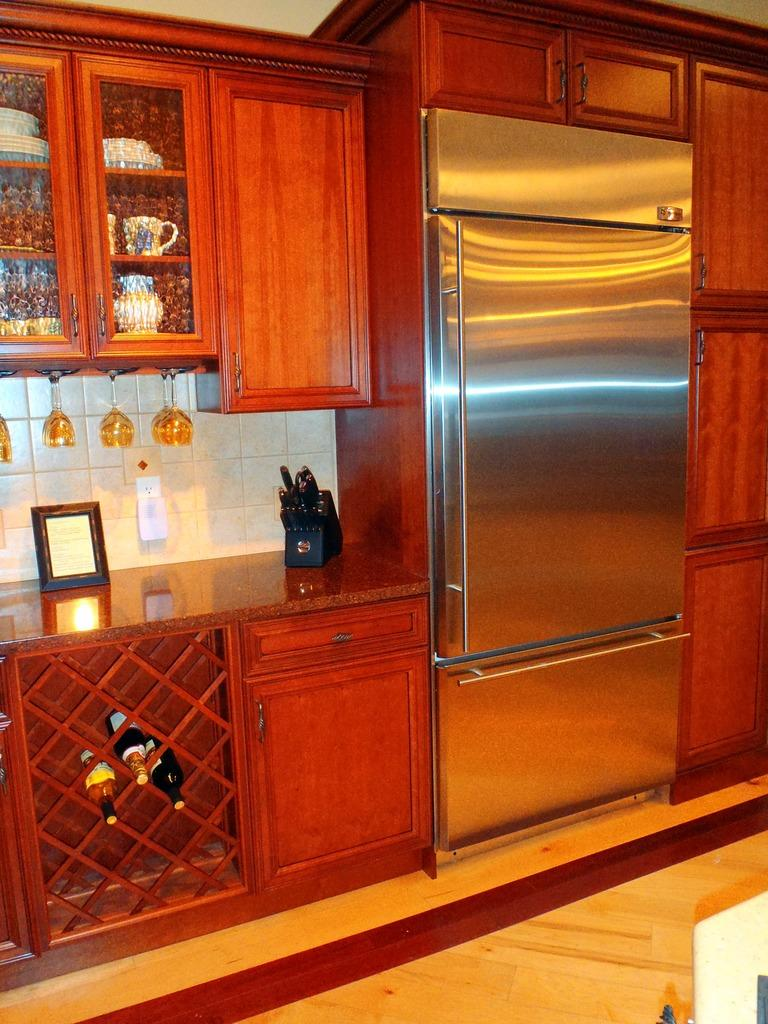cabinet_door: (225, 87, 363, 411), (79, 52, 211, 352), (248, 687, 432, 846), (2, 50, 78, 336), (698, 71, 768, 300), (700, 318, 768, 524), (432, 20, 562, 108), (564, 34, 676, 111), (254, 618, 418, 664)
handle: (446, 229, 480, 661), (466, 636, 682, 692), (567, 60, 591, 108), (250, 698, 270, 746), (94, 288, 109, 346), (326, 627, 356, 653), (555, 54, 568, 107), (230, 346, 243, 396), (695, 327, 707, 374), (696, 252, 708, 296), (72, 296, 82, 344)
